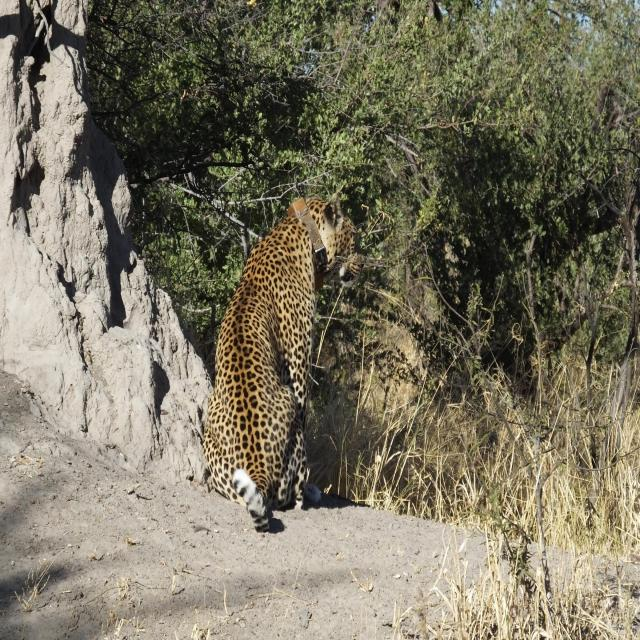Leopard: (192, 200, 329, 551)
